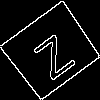Z: (26, 26, 77, 81)
